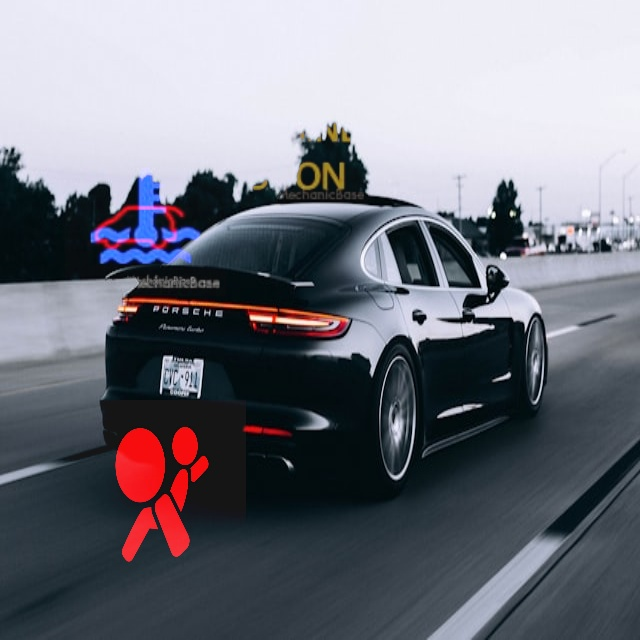symbol: (66, 400, 246, 580), (65, 135, 226, 296), (217, 54, 370, 207), (78, 168, 201, 291)
